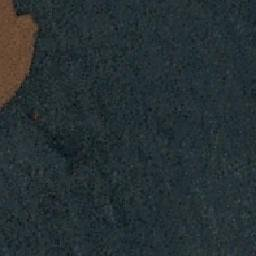debris: (1, 6, 32, 107)
